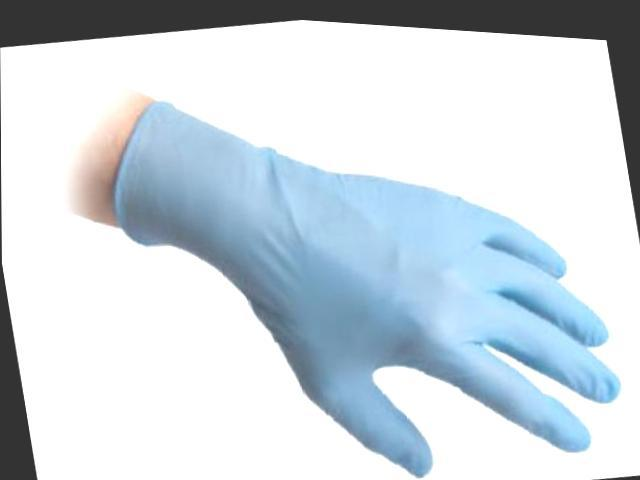Hand-in-Glove: (92, 12, 632, 480)
